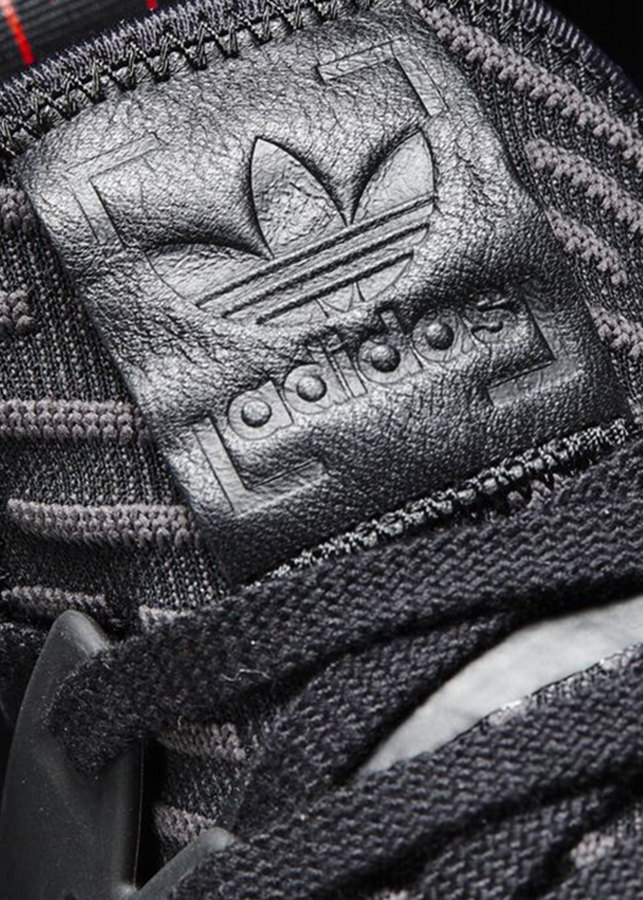Adidas: (136, 118, 527, 444)
